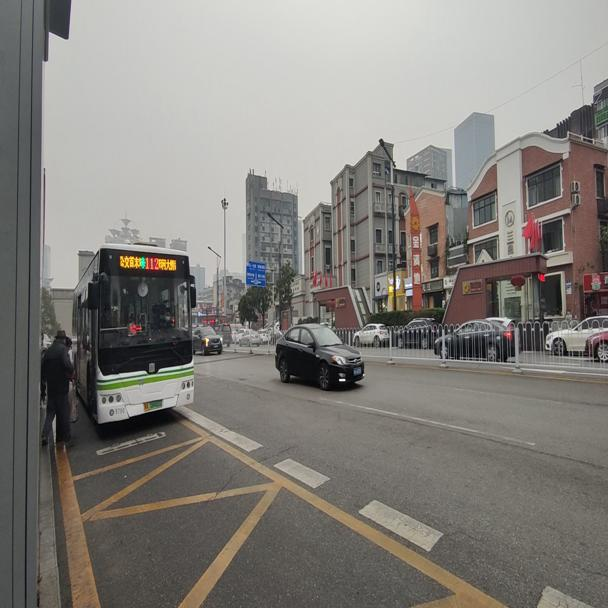bus: (71, 239, 196, 430)
screen: (142, 253, 158, 272)
